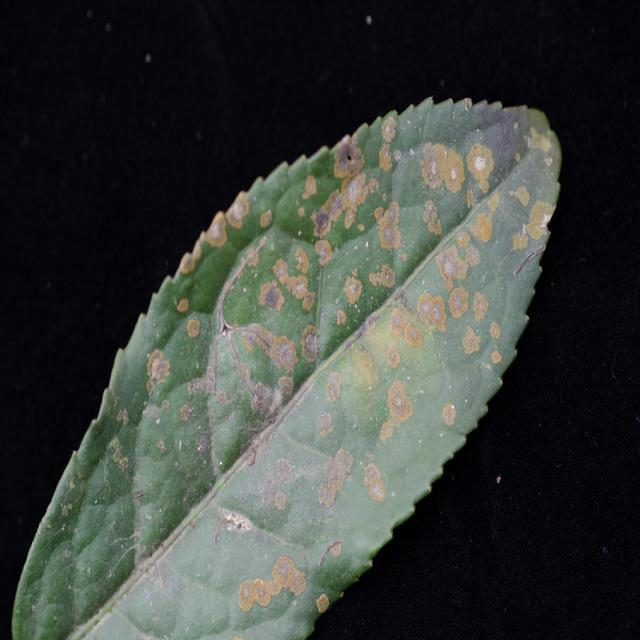Tea algae leaf spot: (121, 119, 561, 567)
